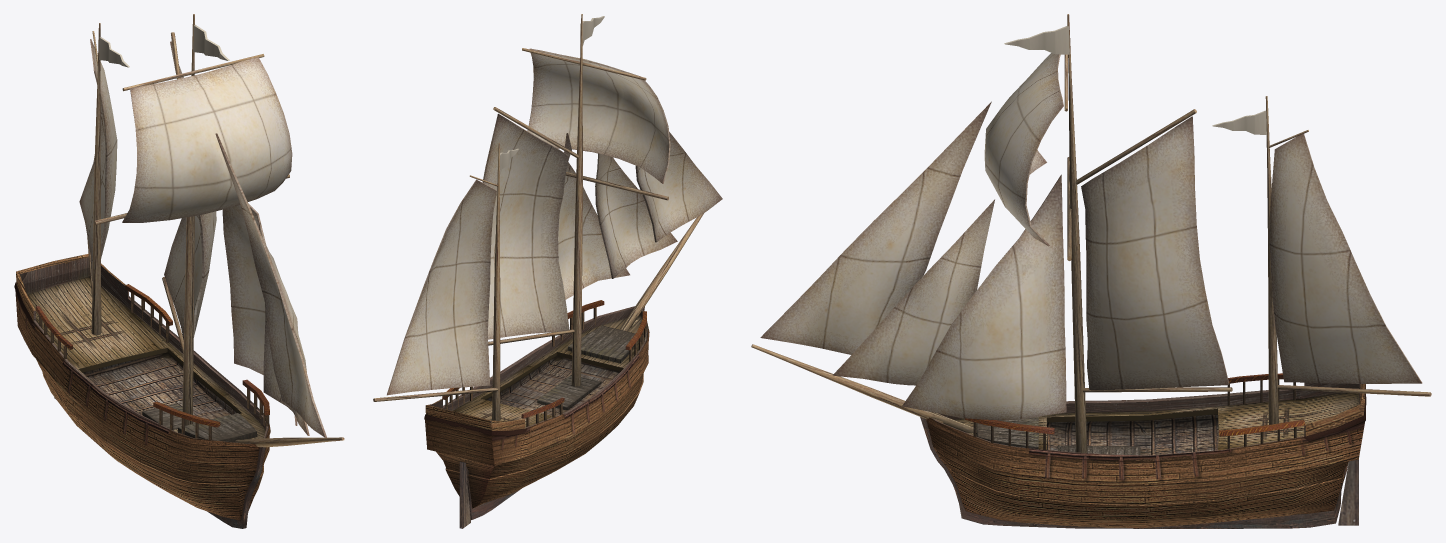
The model's file is ship_lvl_3.fbx.
3 views of the same model, side by side, from view 1: azimuth 30°, elevation 25°; view 2: azimuth 150°, elevation 25°; view 3: azimuth 270°, elevation 25° (orthographic). The views are drawn at different scales.
Parts seen in each view (by area): view 1: ship_lvl_3; view 2: ship_lvl_3; view 3: ship_lvl_3.
Boxes of the visible parts, x1,y1,x2,y2 form: ship_lvl_3: (14, 14, 344, 528); ship_lvl_3: (373, 14, 722, 528); ship_lvl_3: (751, 14, 1431, 528).
Bounding box in the file's own units: 53.25 × 127 × 153.
